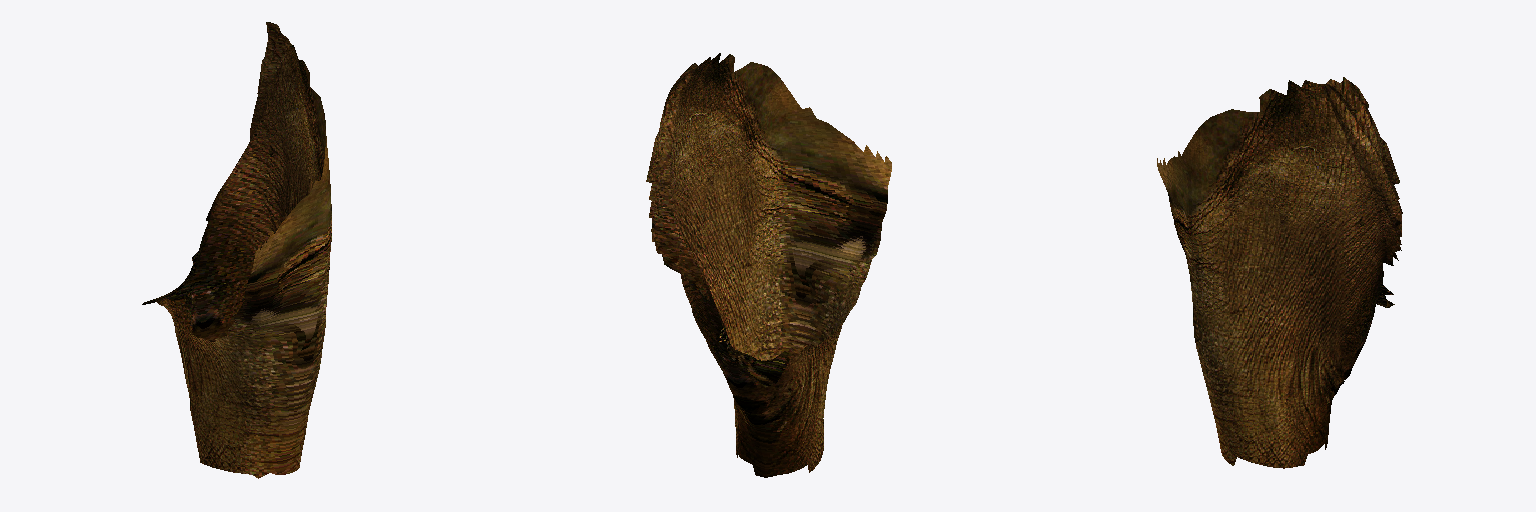
3 renders of one model, left to right at view 1: azimuth 30°, elevation 25°; view 2: azimuth 150°, elevation 25°; view 3: azimuth 270°, elevation 25°, orthographic.
Parts seen in each view (by area): view 1: ele_upper_front_left; view 2: ele_upper_front_left; view 3: ele_upper_front_left.
Part boxes in pixels (x1,y1,x2,y2): ele_upper_front_left: (142,22,331,478); ele_upper_front_left: (646,53,891,477); ele_upper_front_left: (1157,77,1402,468).
Size of the model in its own units: 1177 by 3450 by 1926.
Materials: 1 (1 with a texture image).